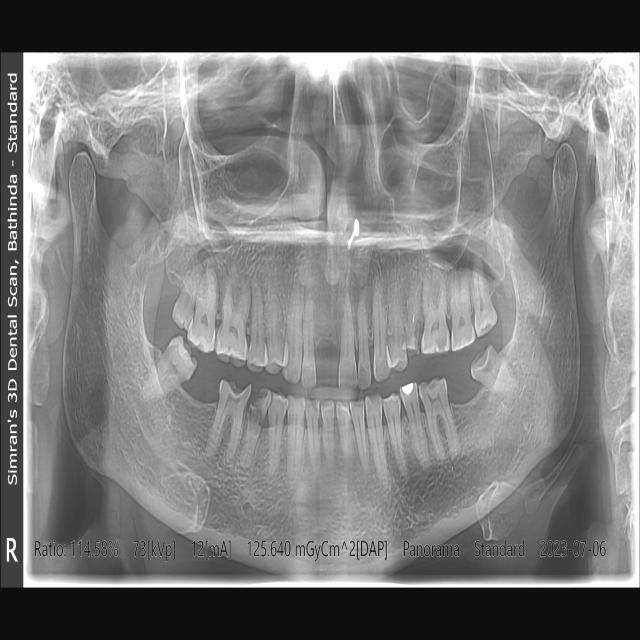Filling: (401, 383, 414, 394)
